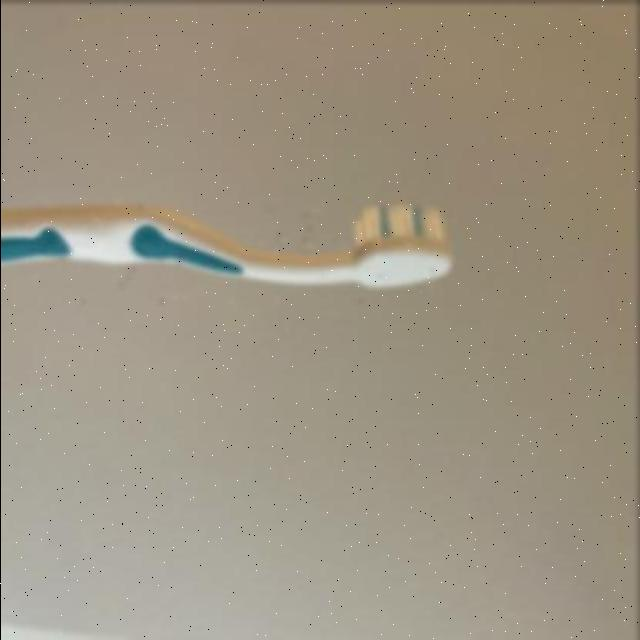toothbrush: (0, 191, 460, 303)
